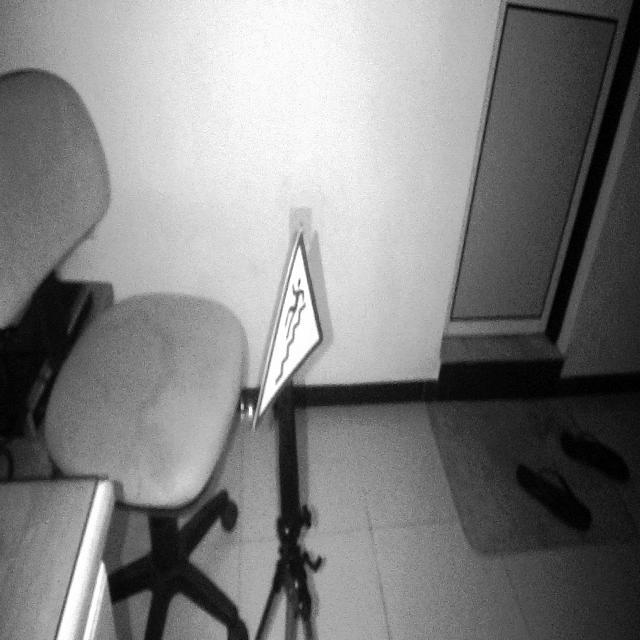Sign: (252, 227, 325, 435)
